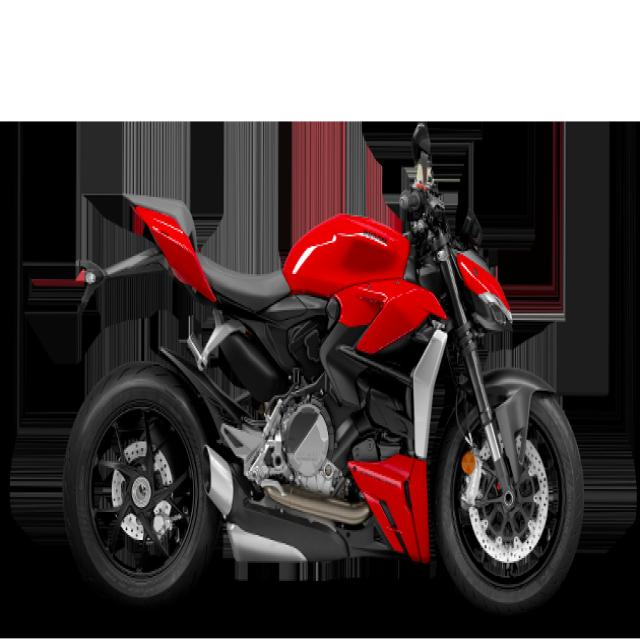Bike: (61, 125, 584, 617)
